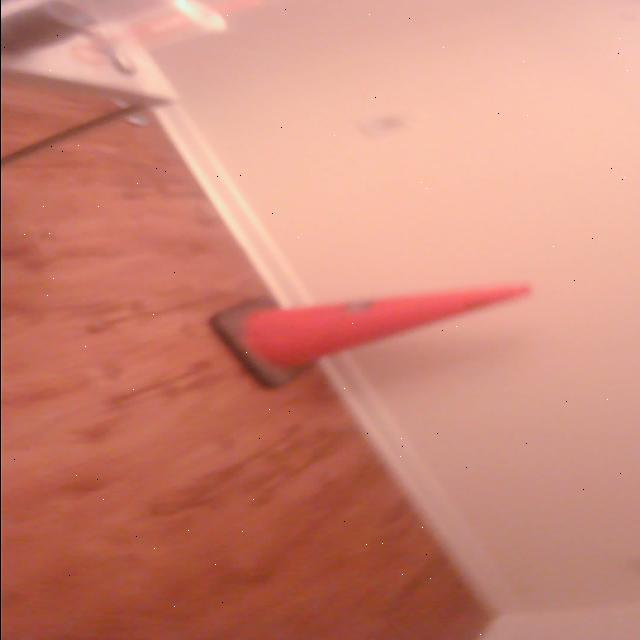traffic cone: (202, 280, 542, 394)
